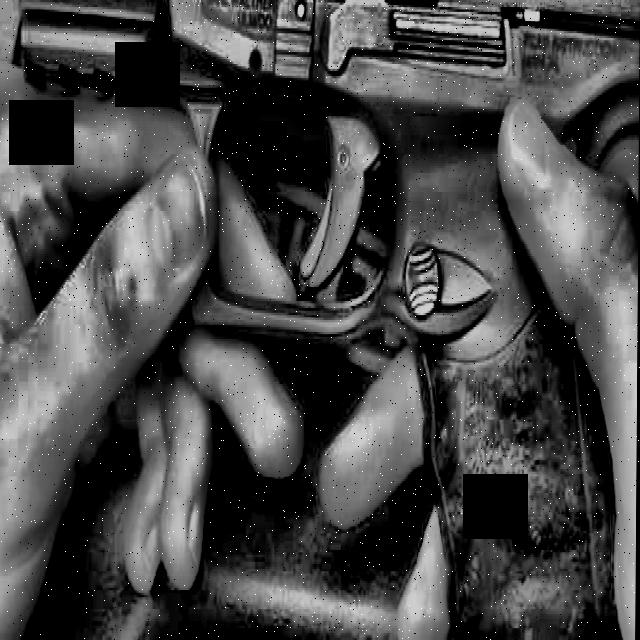Walther: (5, 0, 640, 640)
